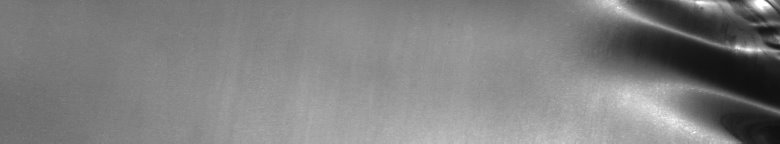ke: (604, 4, 712, 136)
